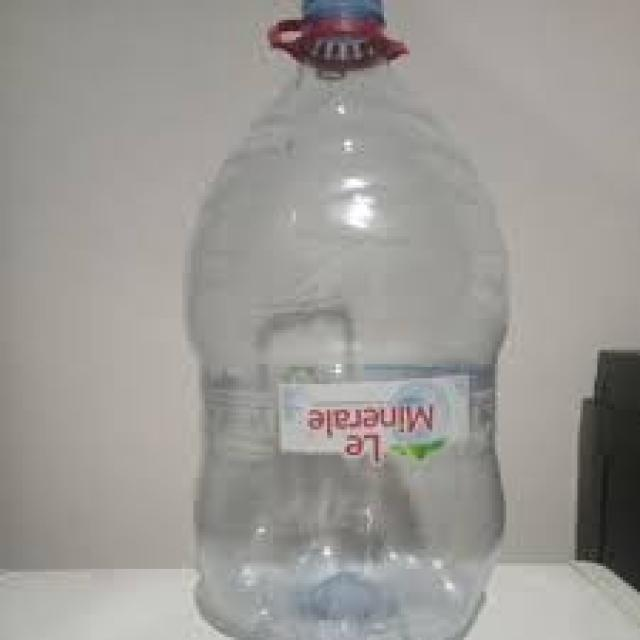Galon: (179, 0, 512, 637)
